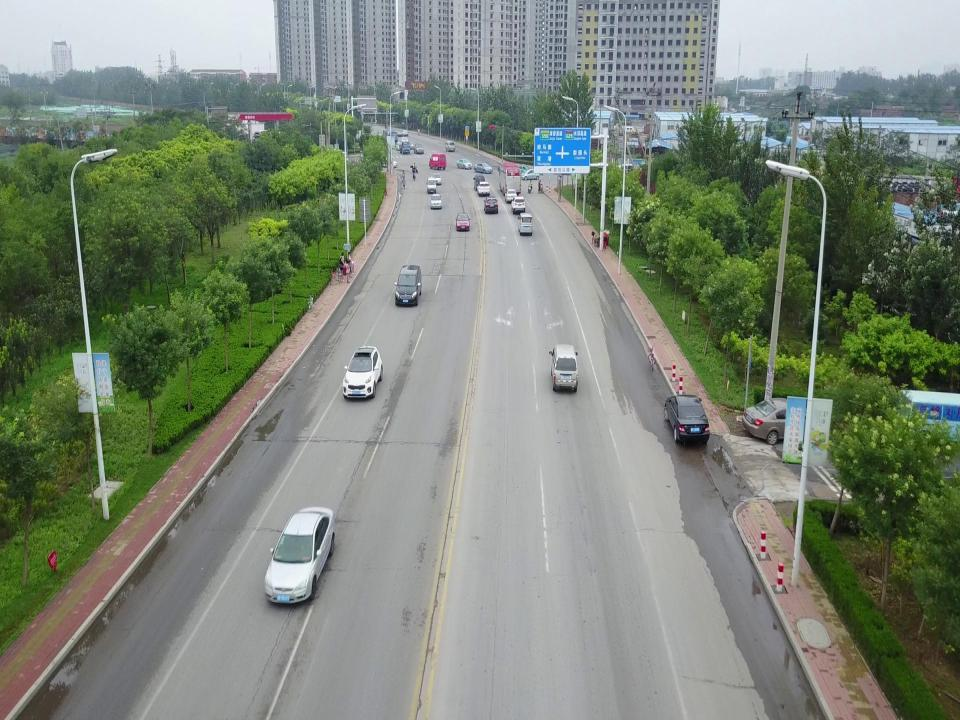bus: (497, 161, 521, 196)
car: (263, 505, 336, 607), (741, 396, 833, 447), (663, 392, 711, 446), (340, 345, 384, 401), (517, 212, 533, 236), (510, 195, 526, 215), (454, 212, 470, 231), (483, 196, 499, 214), (520, 168, 540, 181), (514, 164, 534, 176), (477, 180, 491, 197), (455, 157, 473, 170), (429, 194, 443, 210), (504, 188, 518, 204), (473, 162, 493, 173), (382, 158, 398, 168), (430, 173, 442, 185), (414, 142, 424, 154), (395, 142, 403, 151)
truck: (398, 142, 410, 155)
van: (548, 342, 580, 392), (394, 264, 422, 307), (428, 153, 447, 170), (472, 173, 486, 192), (426, 175, 437, 194), (444, 140, 456, 152)
